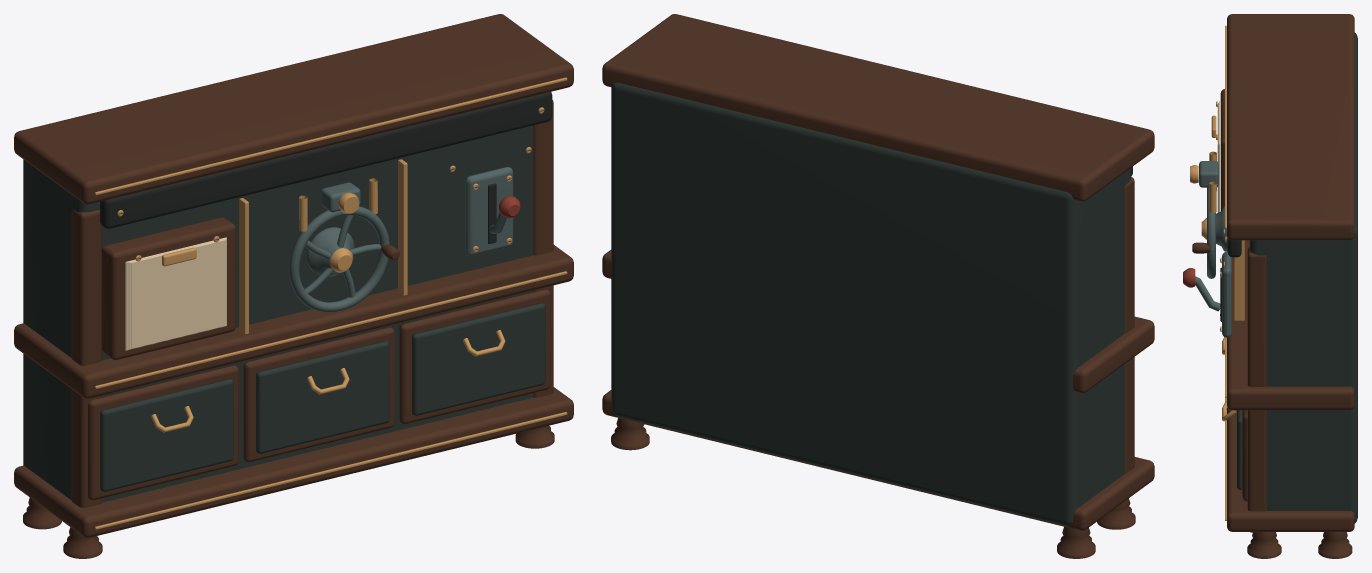
The model's file is lift.glb.
3 views of the same model, side by side, from view 1: azimuth 30°, elevation 25°; view 2: azimuth 150°, elevation 25°; view 3: azimuth 270°, elevation 25° (orthographic). The views are drawn at different scales.
Visible parts, largest first — view 1: Carcass, Projecting moulded rail.002, Projecting moulded rail.001, Projecting moulded rail, Cast header plate, Fielded walnut panel, Fielded walnut panel.001, Fielded walnut panel.002, Deckled folio leaf.004, Dovetailed document tray, Ebonised stile, Recessed door panel.001 (+15 smaller); view 2: Carcass, Projecting moulded rail.002, Projecting moulded rail, Ebonised stile, Projecting moulded rail.001, Turned pilaster foot.001, Turned pilaster foot.003, Turned pilaster foot; view 3: Projecting moulded rail.002, Carcass, Projecting moulded rail.001, Ebonised stile.001, Projecting moulded rail, Slotted throw plate, Turned pilaster foot.002, Turned pilaster foot.003, Station divider.001, Cast handwheel rim, Dovetailed document tray, Recessed door panel.002 (+7 smaller).
Boxes of the visible parts, x1,y1,x2,y2 form: Carcass: (23, 125, 533, 502); Projecting moulded rail.002: (14, 14, 573, 204); Projecting moulded rail.001: (14, 245, 573, 398); Projecting moulded rail: (14, 387, 573, 537); Cast header plate: (100, 92, 552, 228); Fielded walnut panel: (100, 379, 233, 491); Fielded walnut panel.001: (256, 341, 389, 453); Fielded walnut panel.002: (412, 303, 545, 415); Deckled folio leaf.004: (131, 239, 226, 348); Dovetailed document tray: (101, 217, 235, 359); Ebonised stile: (71, 209, 101, 507); Recessed door panel.001: (243, 327, 394, 462); Carcass: (611, 82, 1130, 526); Projecting moulded rail.002: (602, 14, 1154, 201); Projecting moulded rail: (602, 390, 1154, 530); Ebonised stile: (1124, 177, 1134, 473); Projecting moulded rail.001: (602, 250, 1154, 393); Turned pilaster foot.001: (1057, 526, 1095, 558); Turned pilaster foot.003: (611, 418, 649, 450); Turned pilaster foot: (1097, 498, 1135, 529); Projecting moulded rail.002: (1227, 14, 1354, 240); Carcass: (1249, 32, 1357, 523); Projecting moulded rail.001: (1227, 240, 1354, 410); Ebonised stile.001: (1247, 247, 1266, 532); Projecting moulded rail: (1227, 407, 1354, 531); Slotted throw plate: (1222, 251, 1231, 337); Turned pilaster foot.002: (1247, 532, 1281, 558); Turned pilaster foot.003: (1318, 532, 1352, 558); Station divider.001: (1234, 240, 1244, 320); Cast handwheel rim: (1207, 187, 1215, 278); Dovetailed document tray: (1220, 89, 1224, 211); Recessed door panel.002: (1242, 410, 1247, 501).
Bounding box in the file's own units: 2.52 × 1.9 × 0.889.
